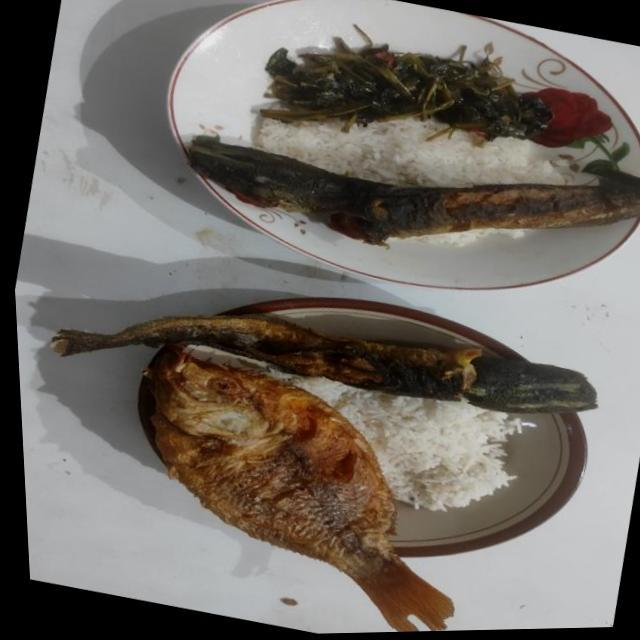ikan_mujair: (144, 345, 452, 632)
nasi_putih: (290, 376, 521, 511), (256, 118, 571, 187), (410, 228, 524, 246)
tumis_kangkung: (260, 38, 552, 140)
